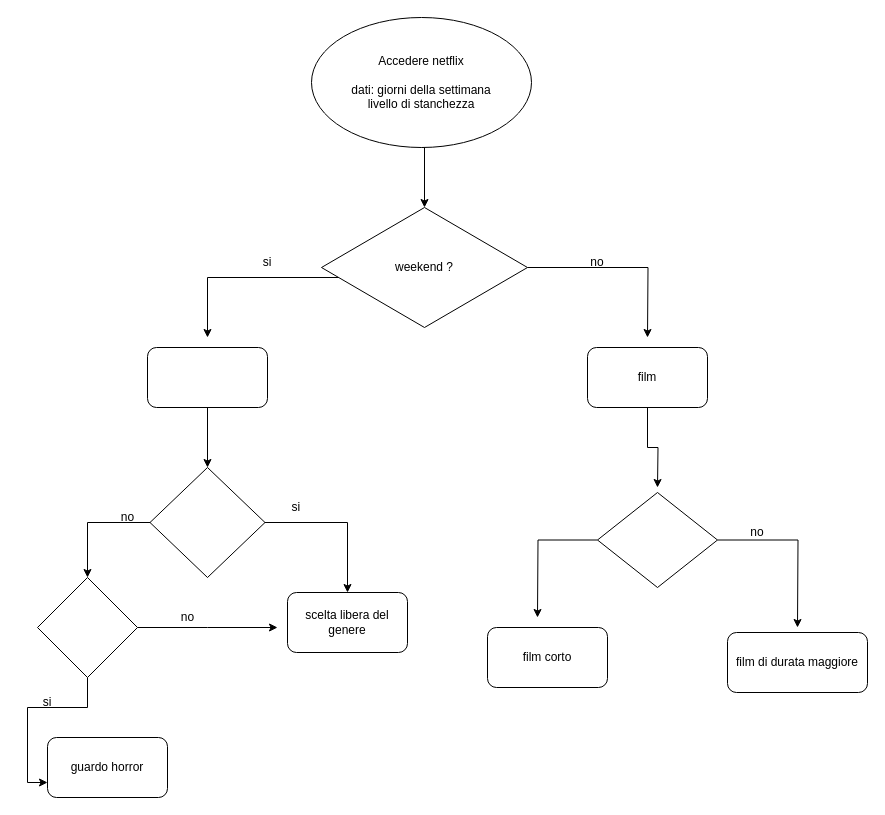
The diagram is 885 pixels wide and 815 high, and some of its shapes have lost their labels. Here are the shapes that lost their labels. From the top down, the box of each, then its label:
(146, 346, 268, 408): serie tv
(149, 466, 265, 578): mattino/pommerigio
(596, 492, 718, 588): sono stanco?
(36, 576, 138, 678): horror
